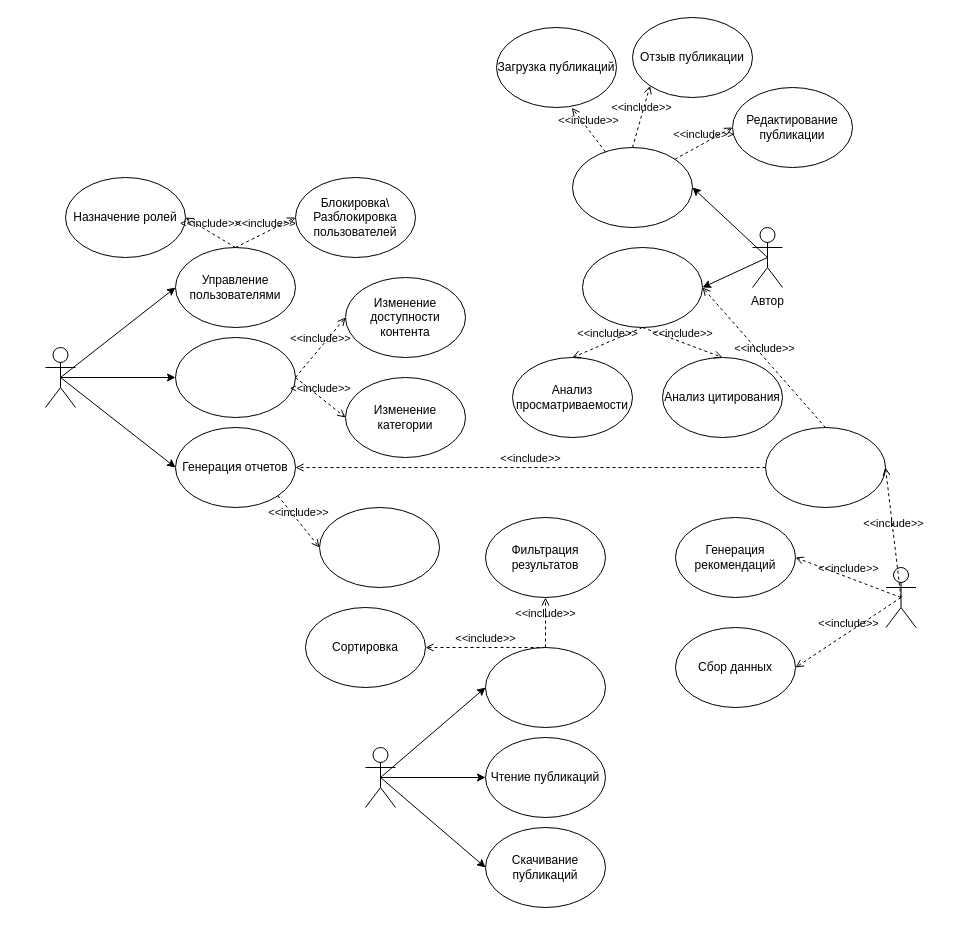
This 973x925 diagram has some shape labels left out. Here are the shapes that lost their labels. From the top down, the centre of each, then its label:
the point at 632,187: Управление публикациями
the point at 642,287: Просмотр статистики
the point at 60,377: Администратор
the point at 235,377: Модерация публикаций
the point at 825,467: Анализ метрик
the point at 379,547: Активность пользователей
the point at 900,597: Система аналитики
the point at 545,687: Поиск публикаций
the point at 380,777: Пользователь
